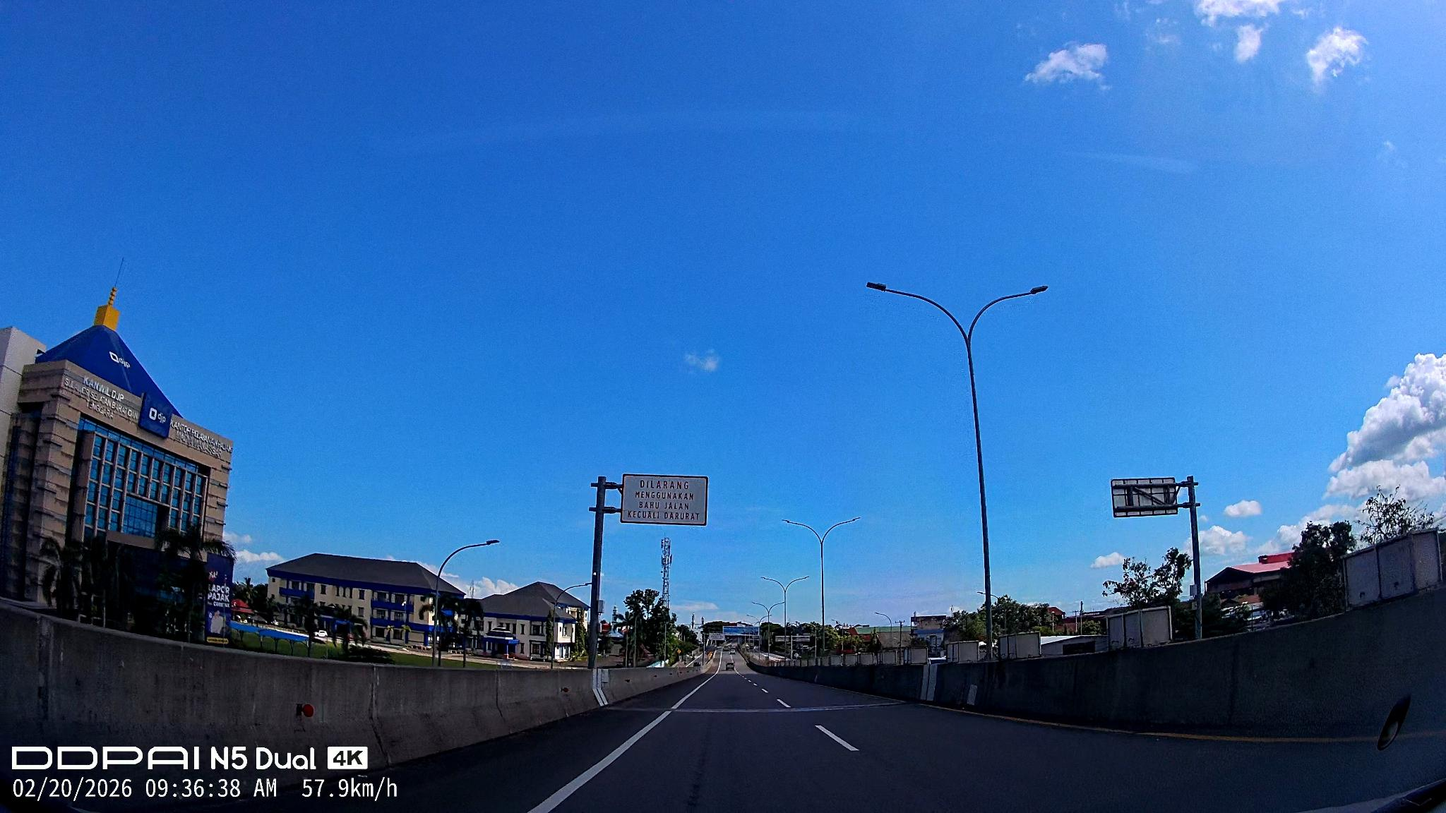rambu_teks: (620, 473, 709, 530)
